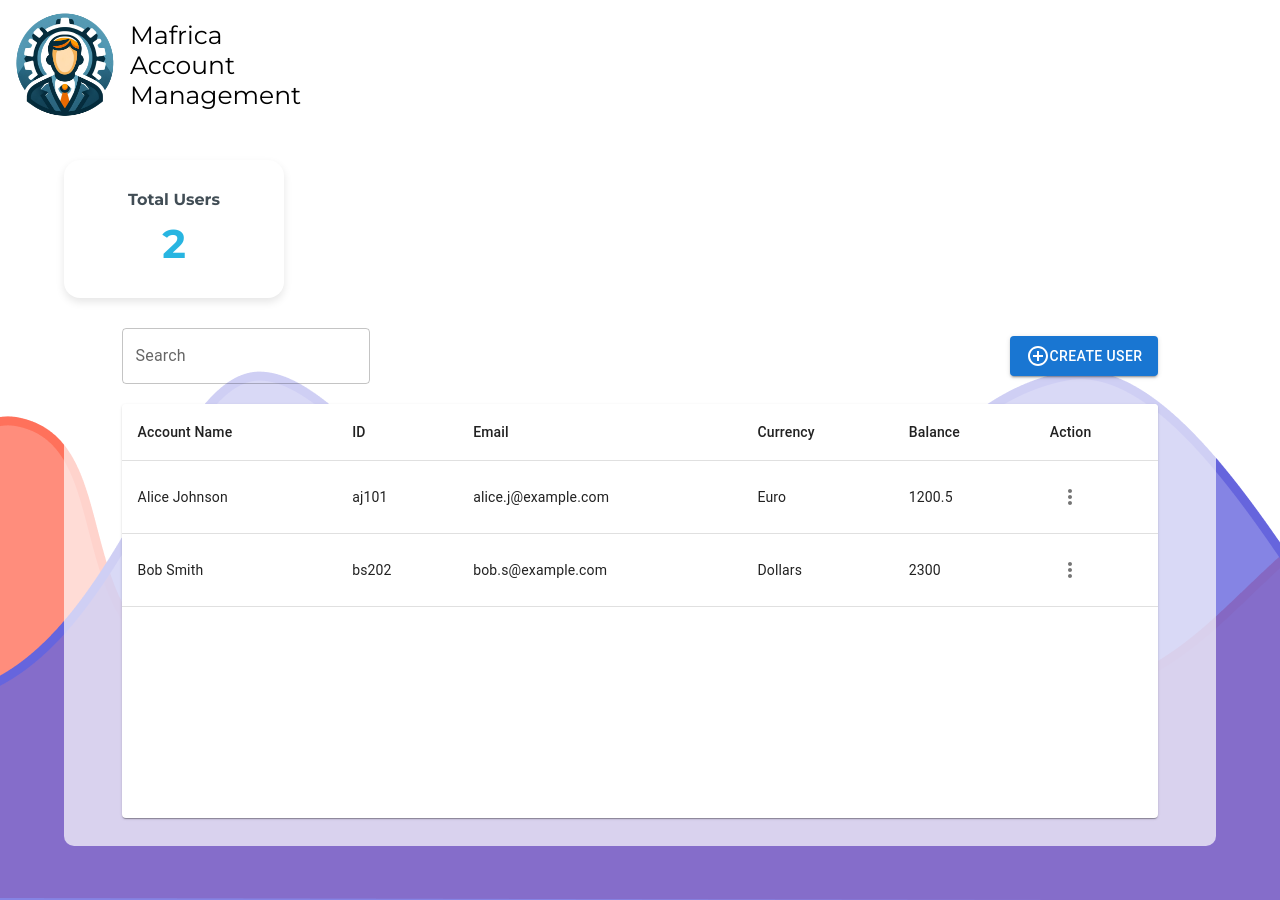
<App /> › should add a new user when submitted through modal
Expected: the text "Alice Johnson" is shown, [122,461,336,534]
Click the button with test id "CreateEditUserOpenModalButton" at (1084, 356), box [1010,336,1158,376]
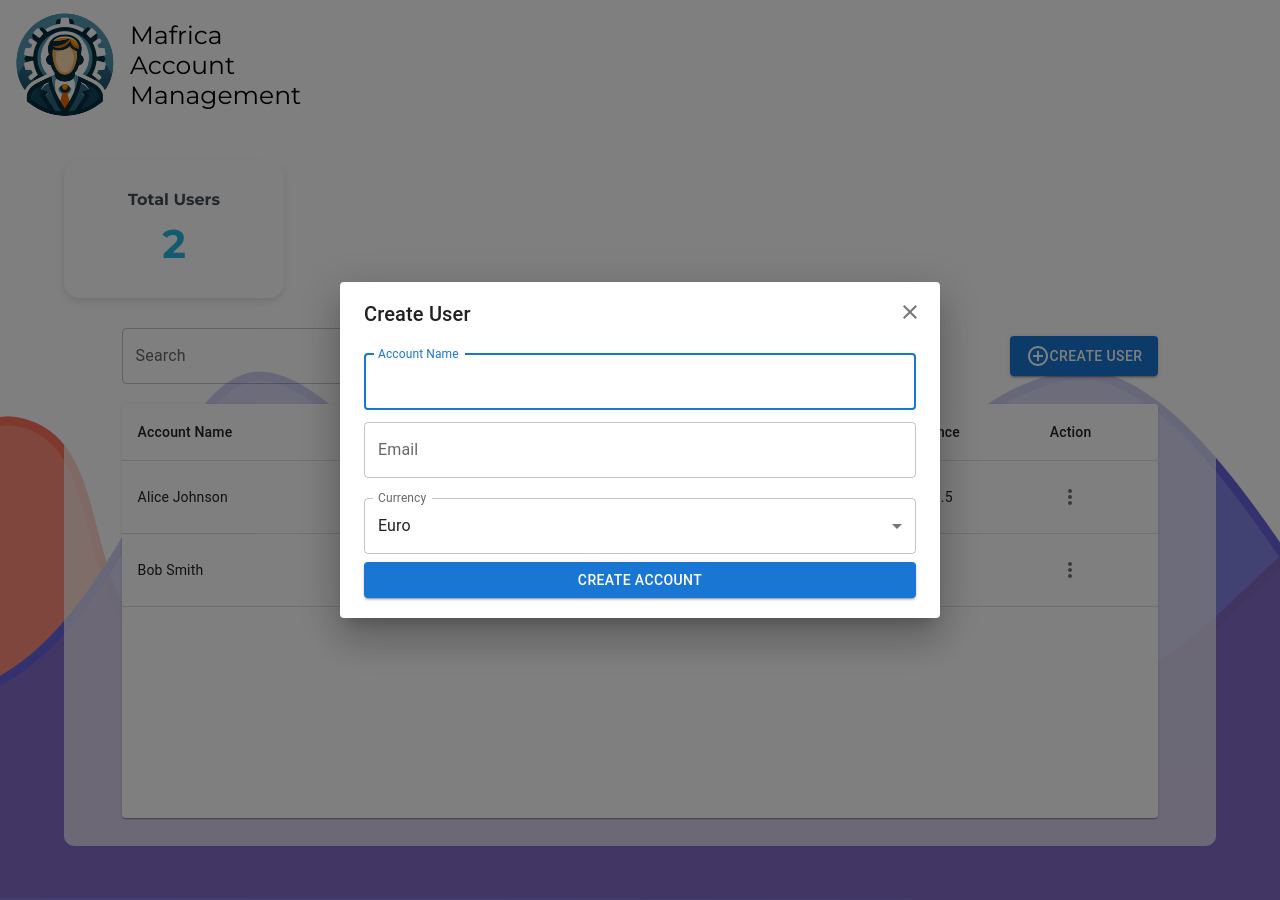
Expected: the element with test id "CreateEditUserModal" is shown
# Effectuer des changements dans la modal et soumettre
Type "Charlie Brown" into the field with test id "AccountNameField" at (640, 382), box [364,354,916,410]
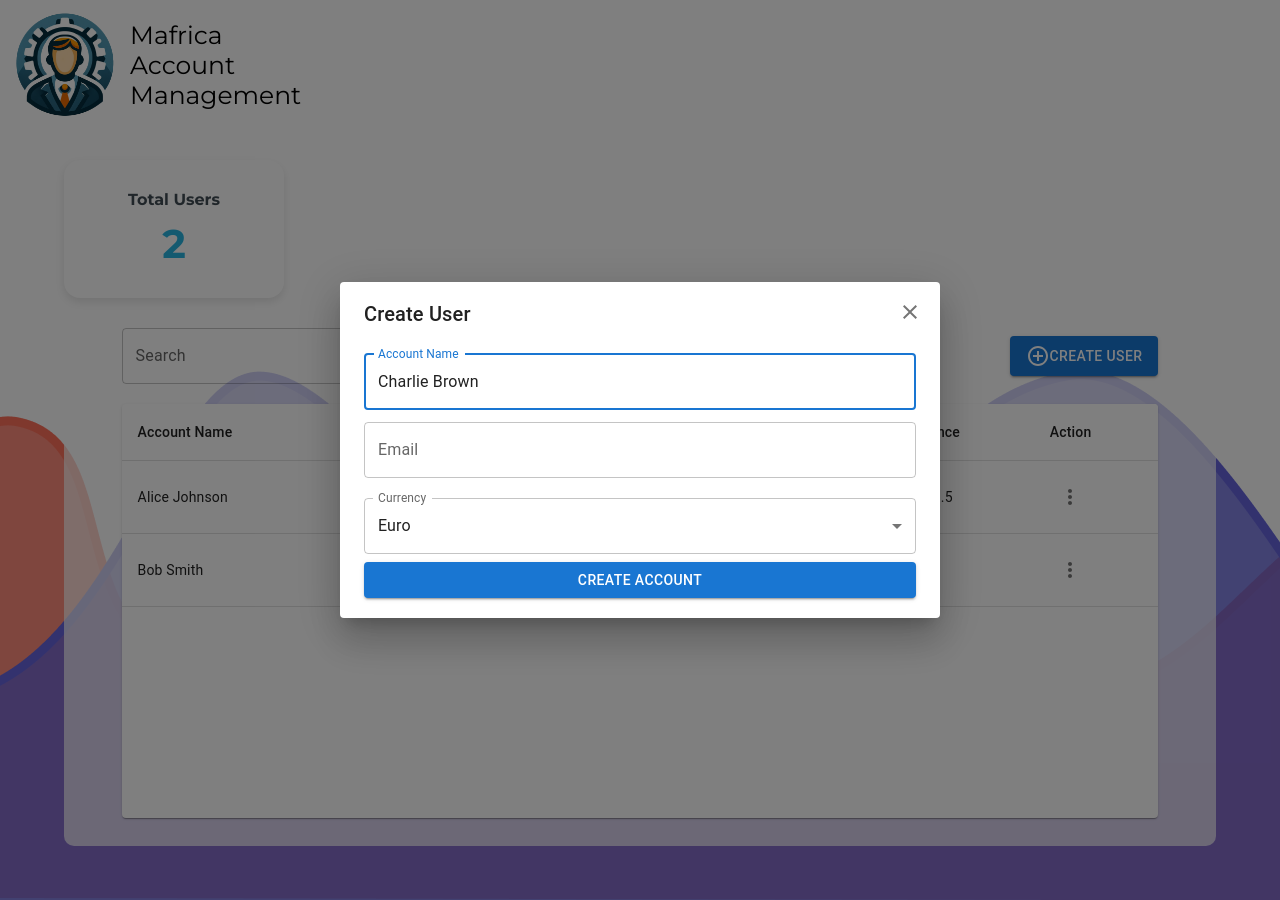
Type "charlie@example.com" into the field with test id "EmailField" at (640, 450), box [364,422,916,478]
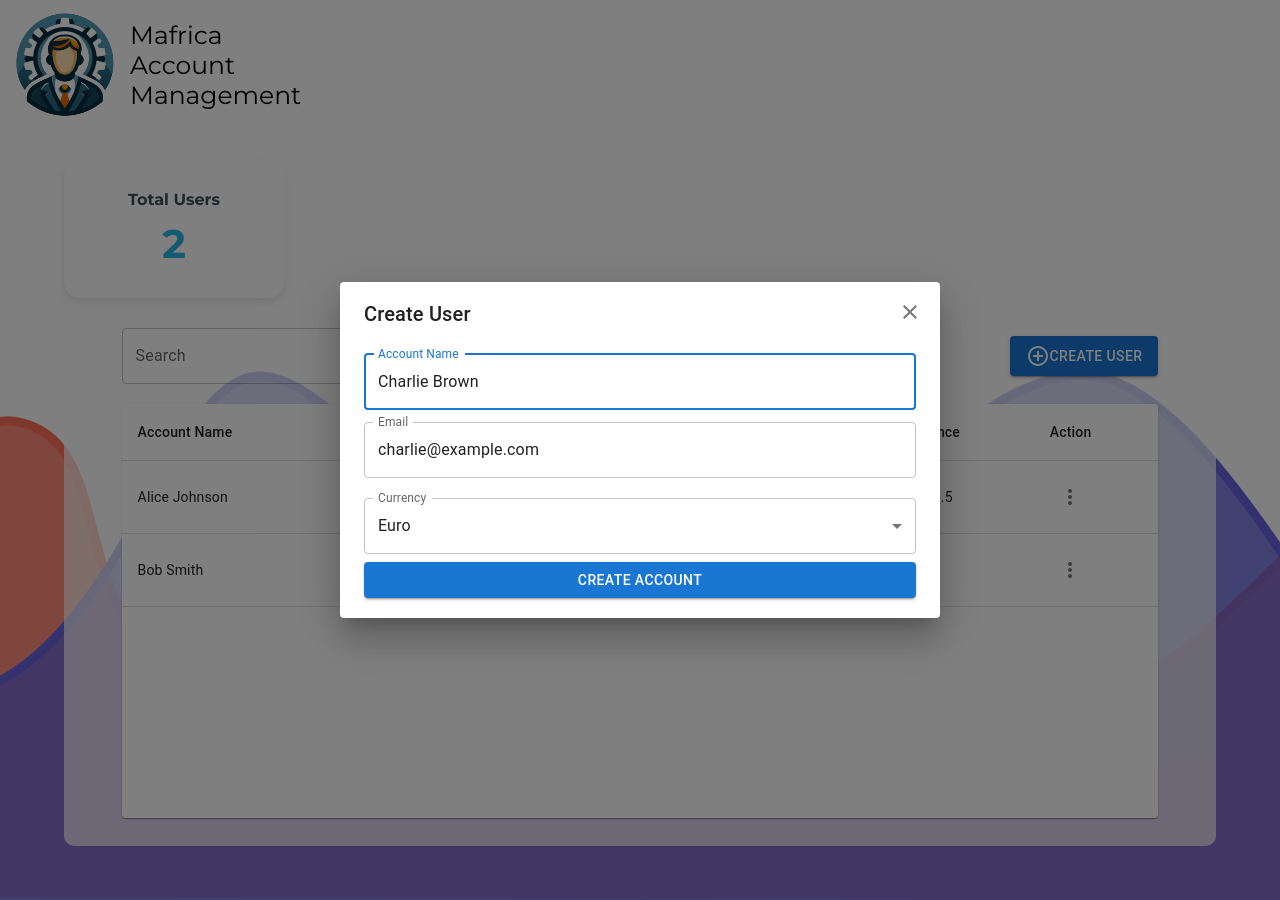
Click the button with test id "CreateEditSubmitButton" at (640, 580), box [364,562,916,598]
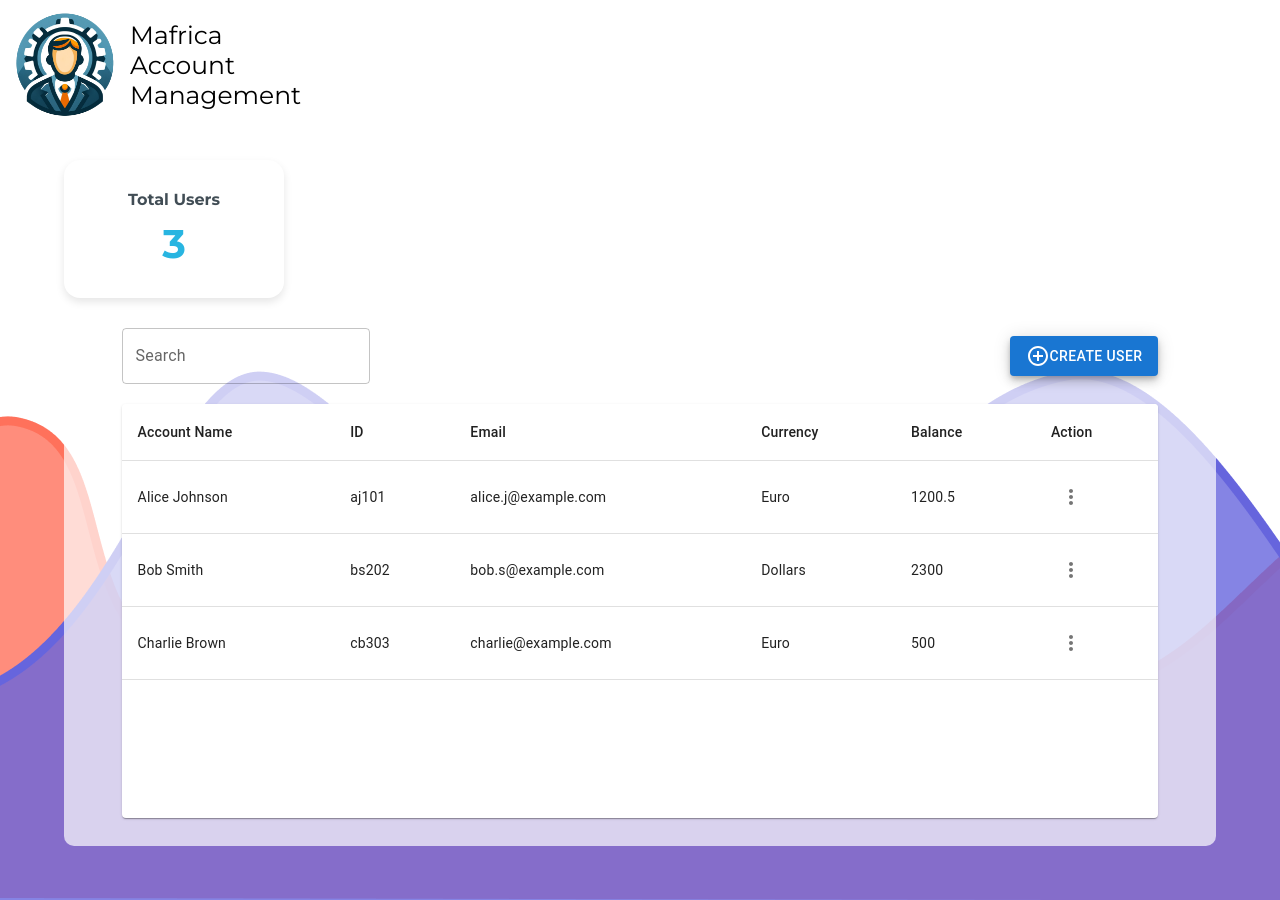
Expected: the text "Charlie Brown" is shown, [122,607,334,680]
